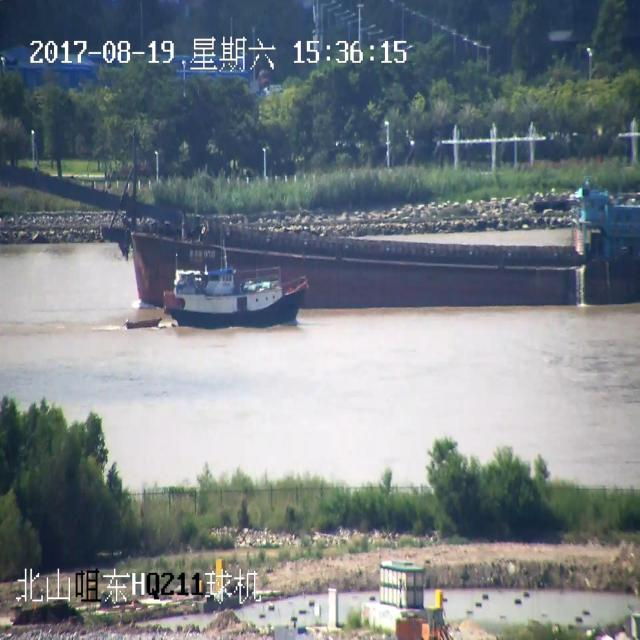cargoship: (26, 138, 640, 337), (142, 245, 309, 351)
